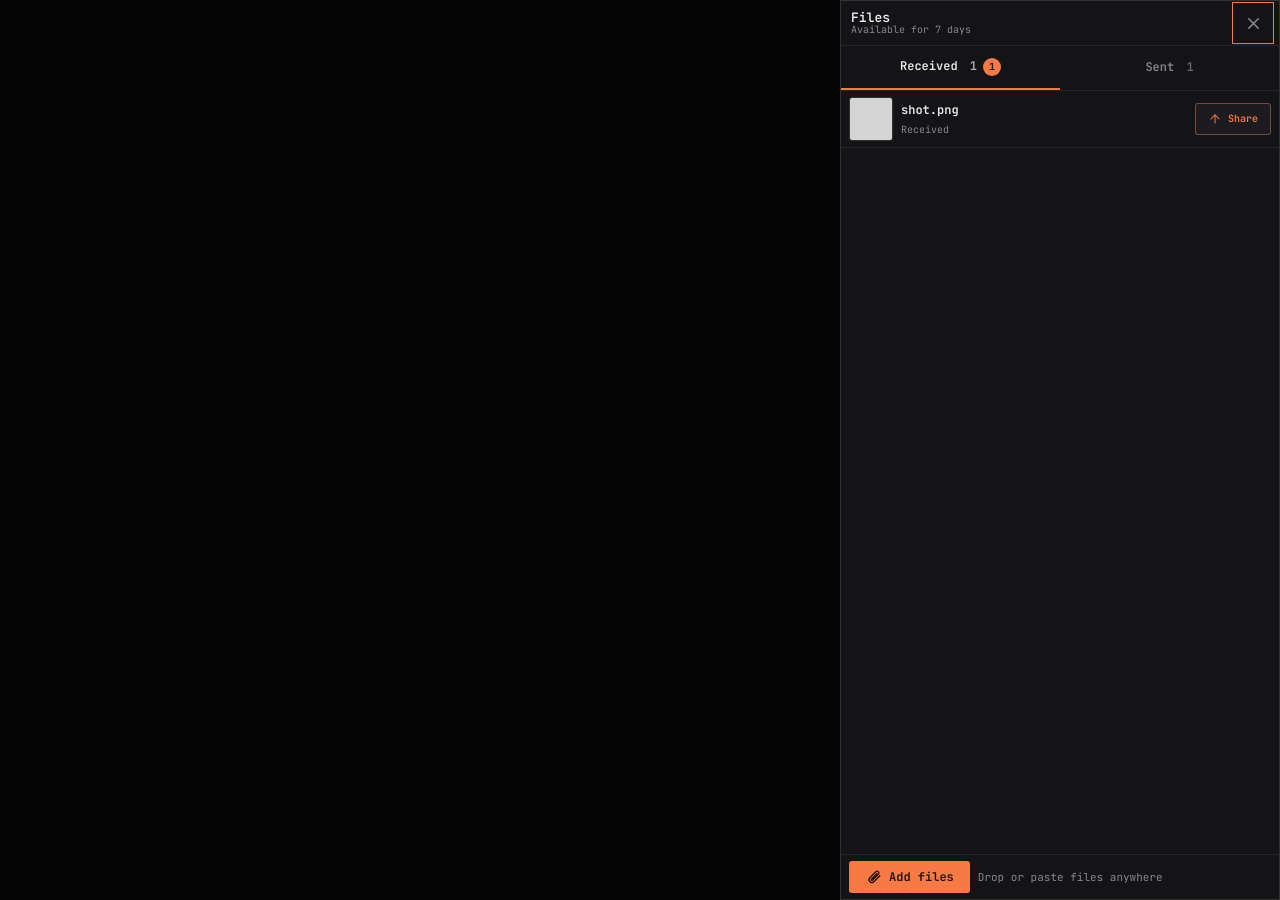
TerminalFiles transfer center › keeps received and sent history in separate tabs and marks received files seen
Expected: the button "sent.png" is not shown
Click the tab "Sent 1". click: (1170, 68)
box: [1060, 46, 1279, 90]
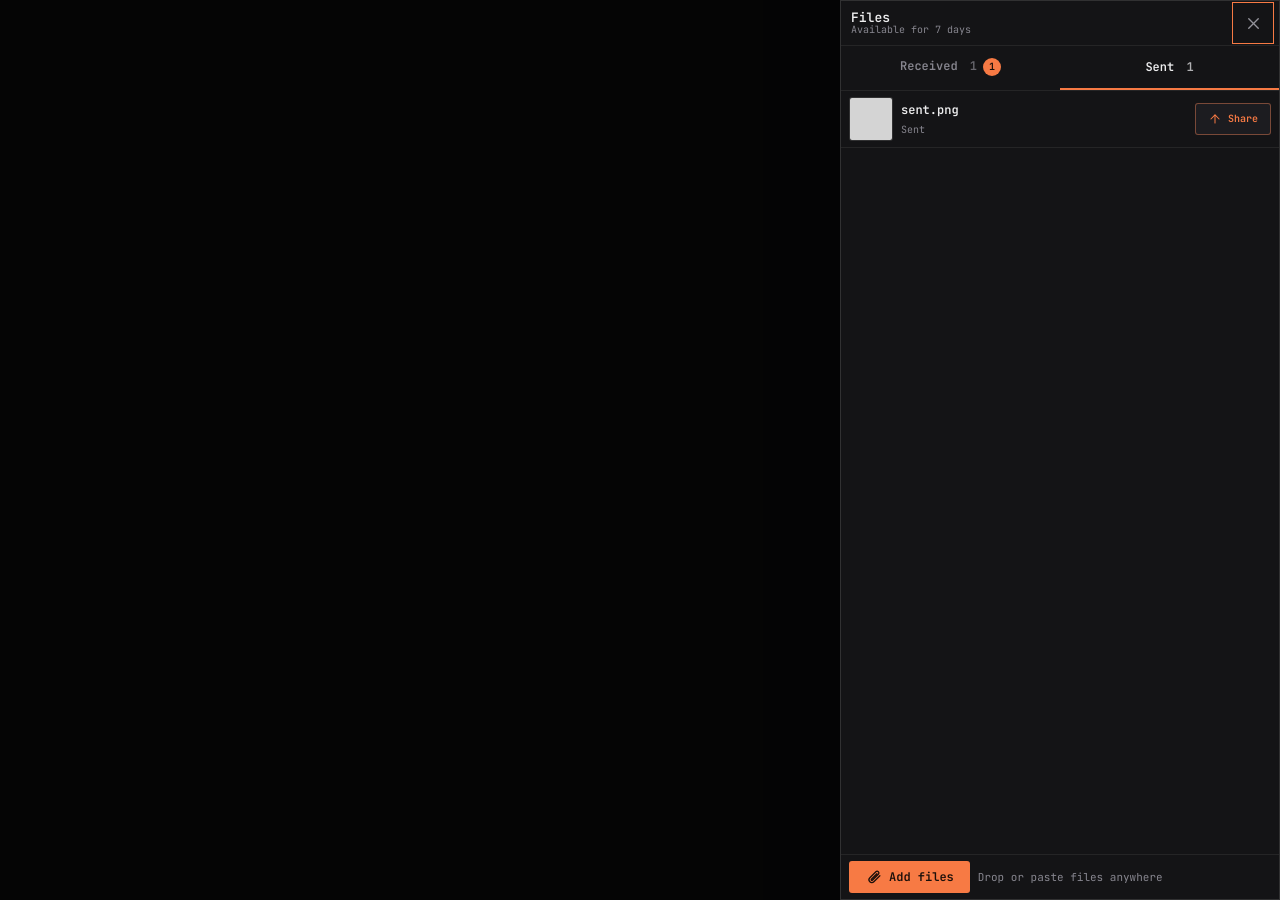
Result: the text "shot.png" is gone
